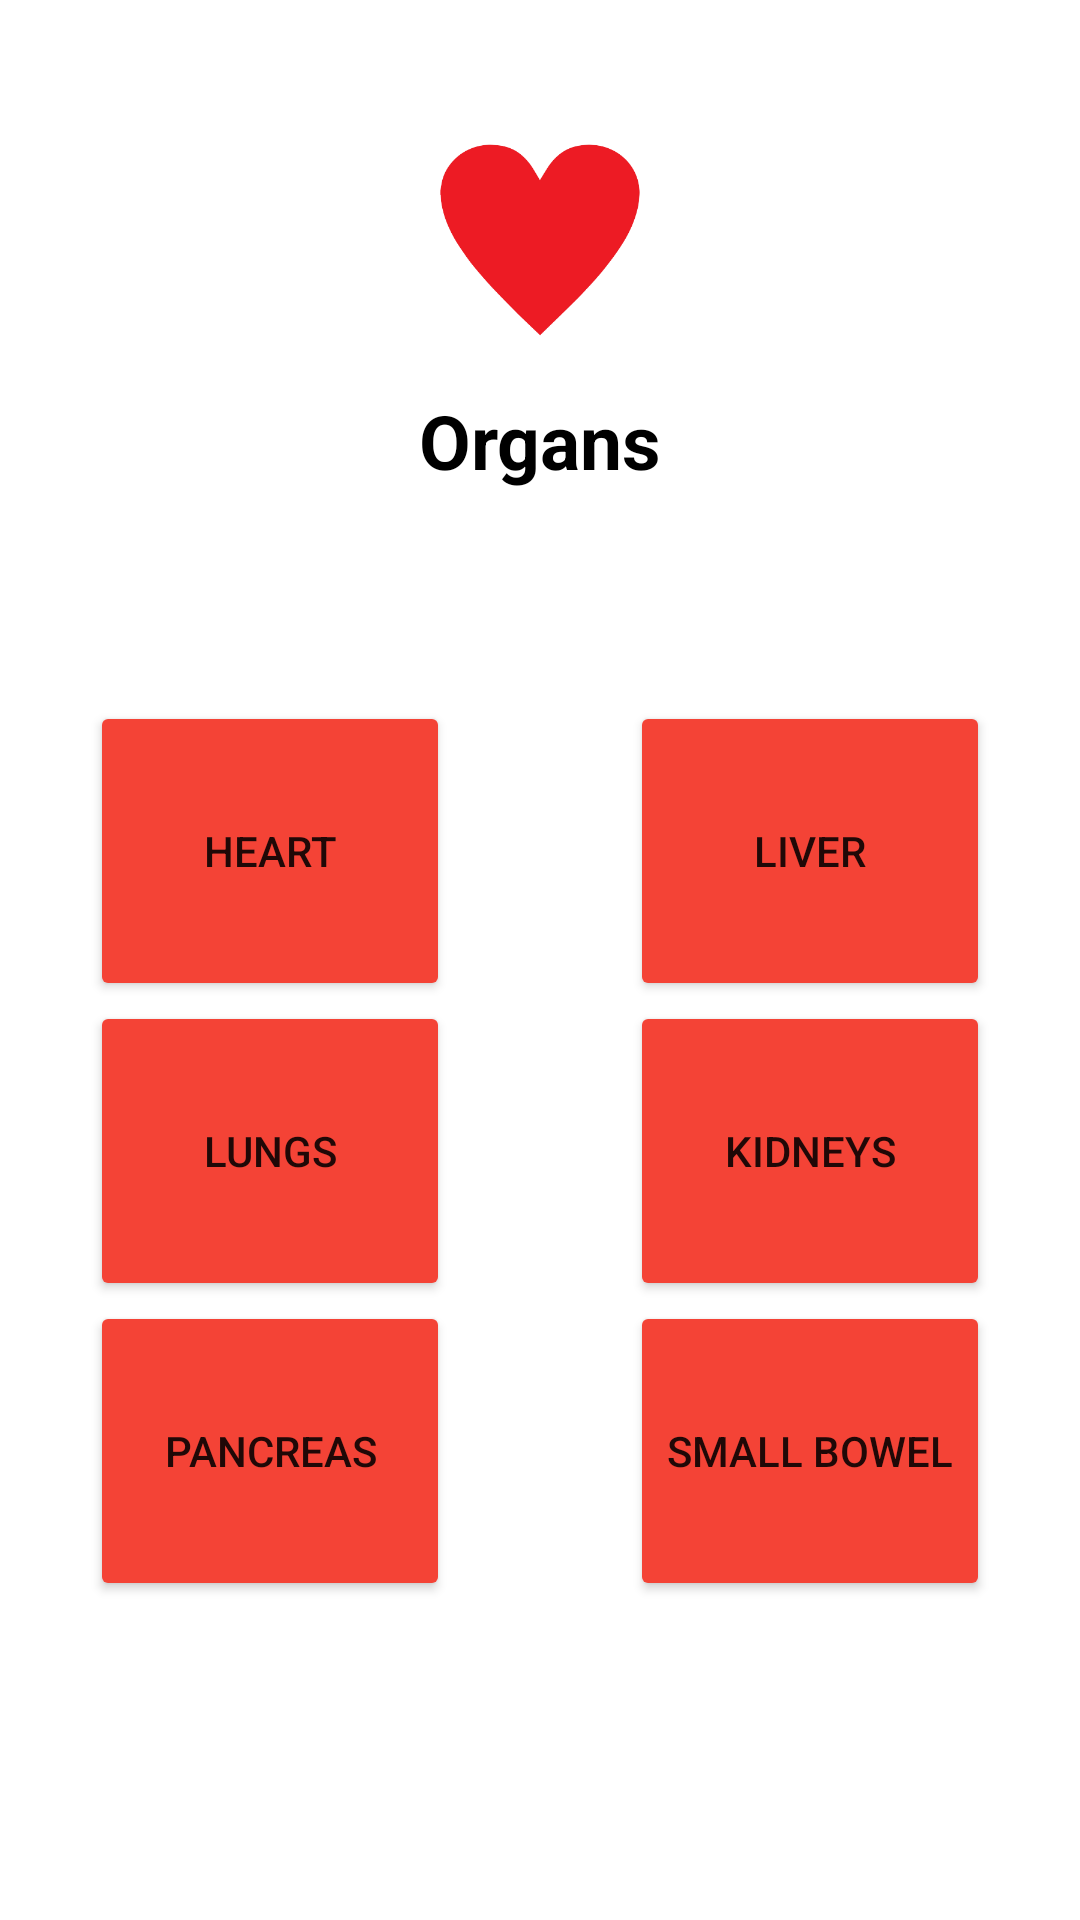

Where to tap for icons on this 1080×1920 app screen, as [x,y]:
heart: [540,239]
